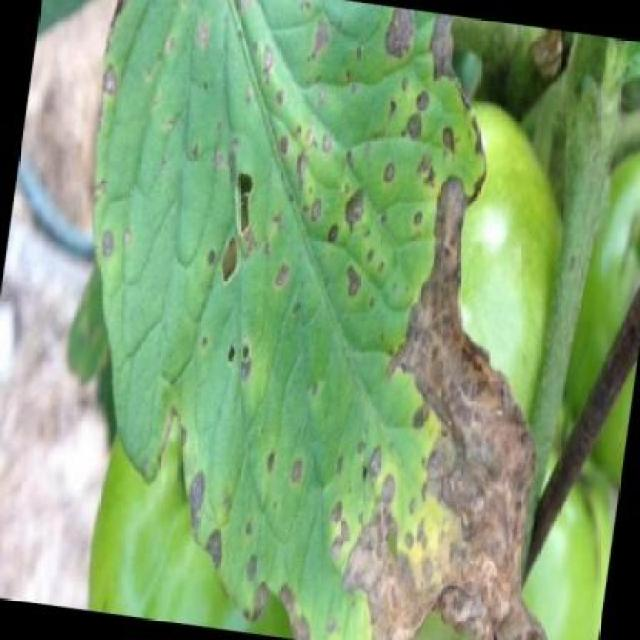Septoria leaf spot: (17, 1, 639, 639)
